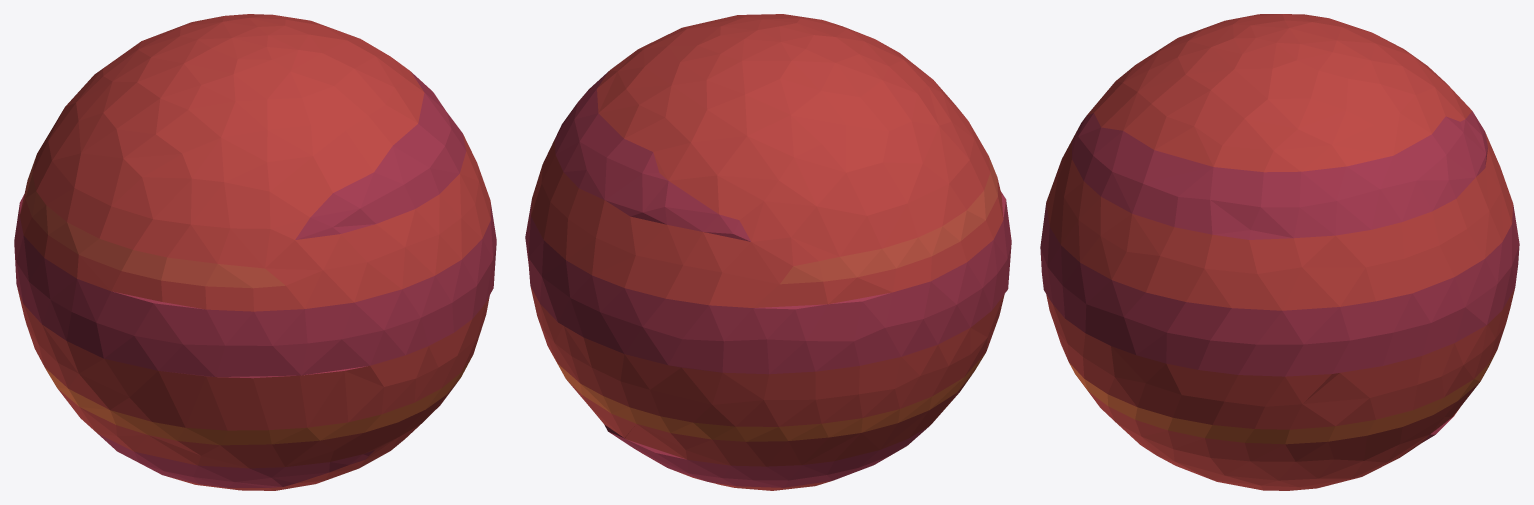
The model's file is Gas_Giant_05.fbx.
3 renders of one model, left to right at view 1: azimuth 30°, elevation 25°; view 2: azimuth 150°, elevation 25°; view 3: azimuth 270°, elevation 25°, orthographic.
Parts seen in each view (by area): view 1: Gas_Giant_05; view 2: Gas_Giant_05; view 3: Gas_Giant_05.
Boxes of the visible parts, <box> form: Gas_Giant_05: <box>14,14,496,490</box>; Gas_Giant_05: <box>525,14,1011,490</box>; Gas_Giant_05: <box>1040,14,1519,490</box>.
Size of the model in its own units: 18227 by 18002 by 18132.
